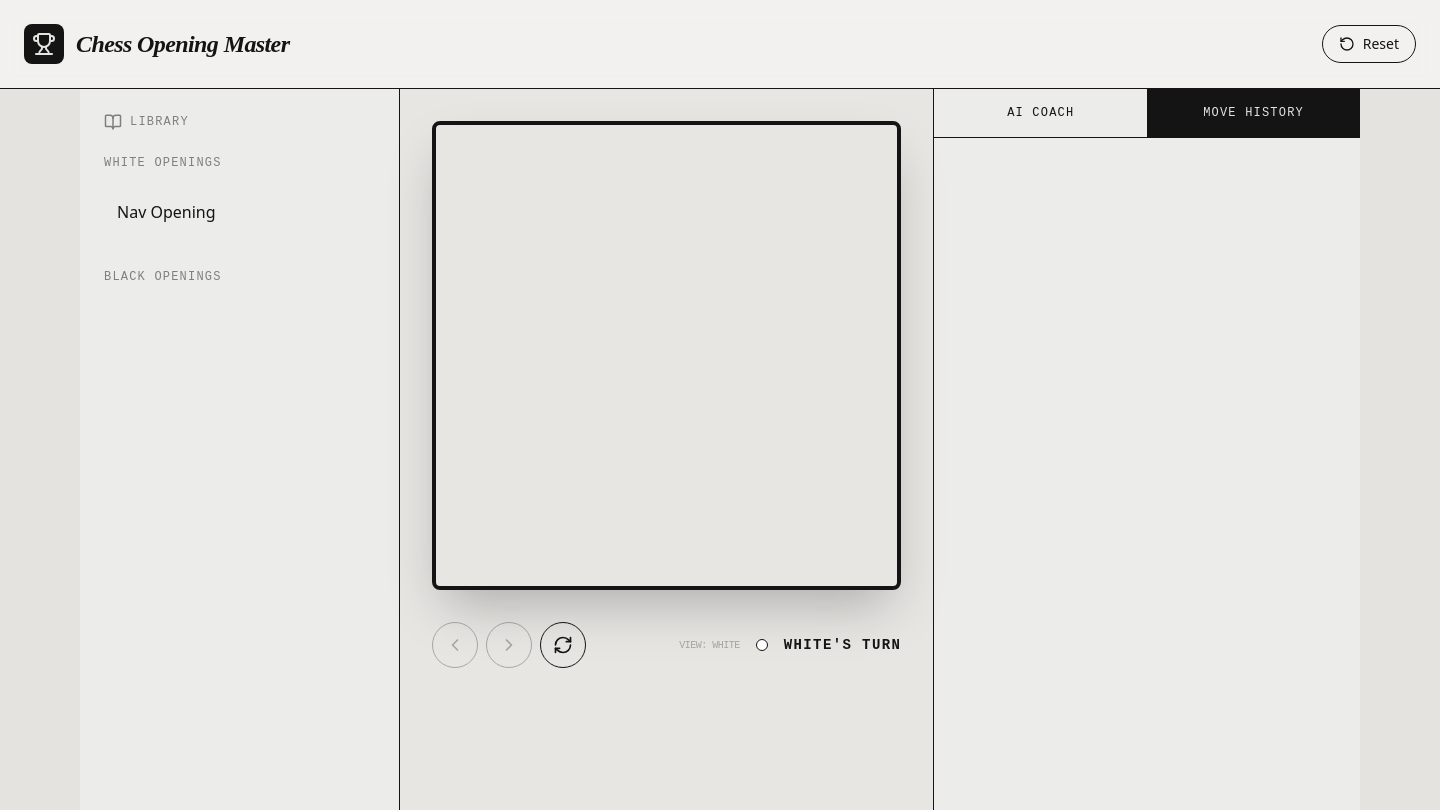
Scenario: App Component › Back/Forward Navigation › forward button becomes enabled after going back
Expected: the text "Nav Opening" is shown, [117,200,216,224]
Click the button "Nav Opening". click: coordinates (166, 212)
box: [104,187,375,237]
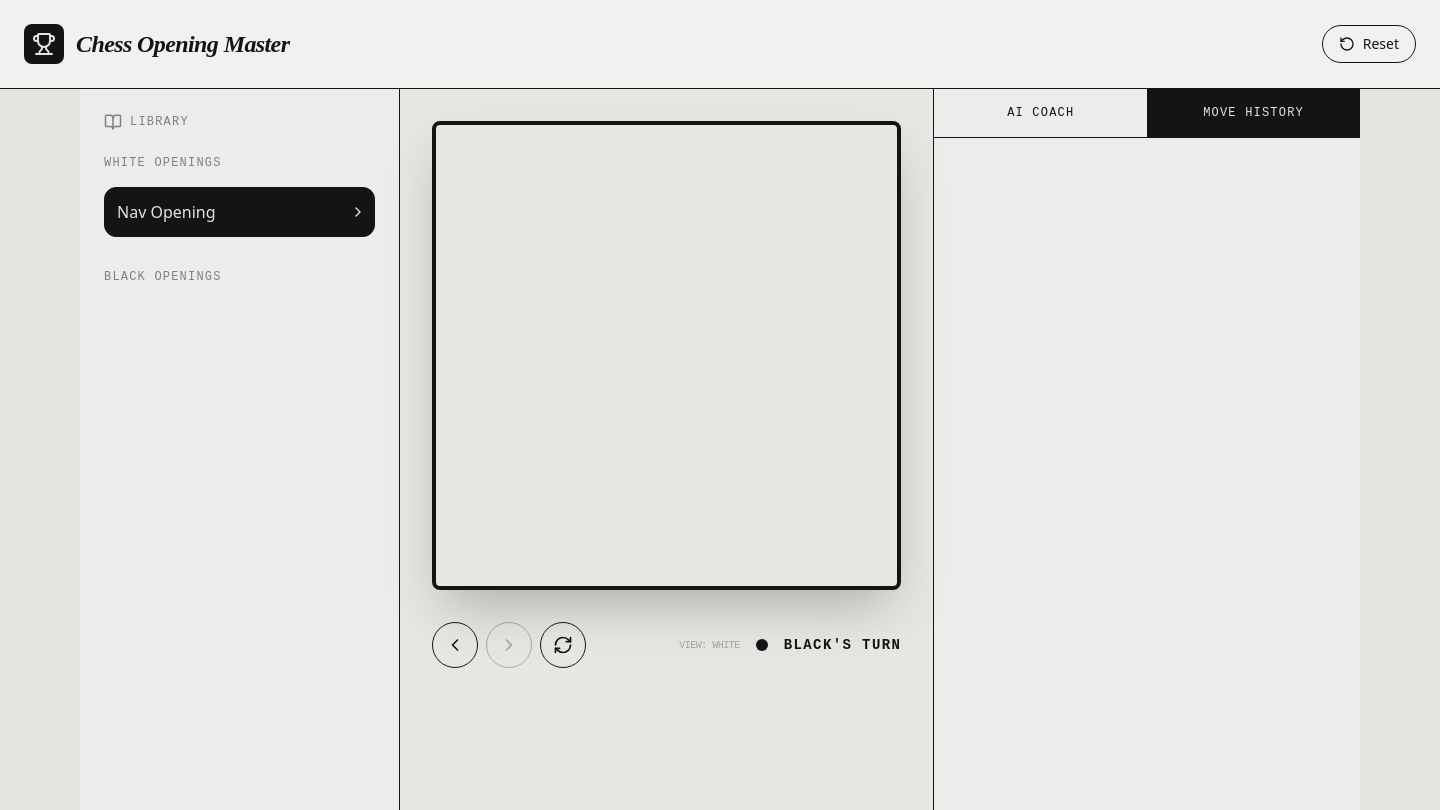
Click the button titled "Go Back". click: coordinates (455, 645)
box: [432,622,478,668]
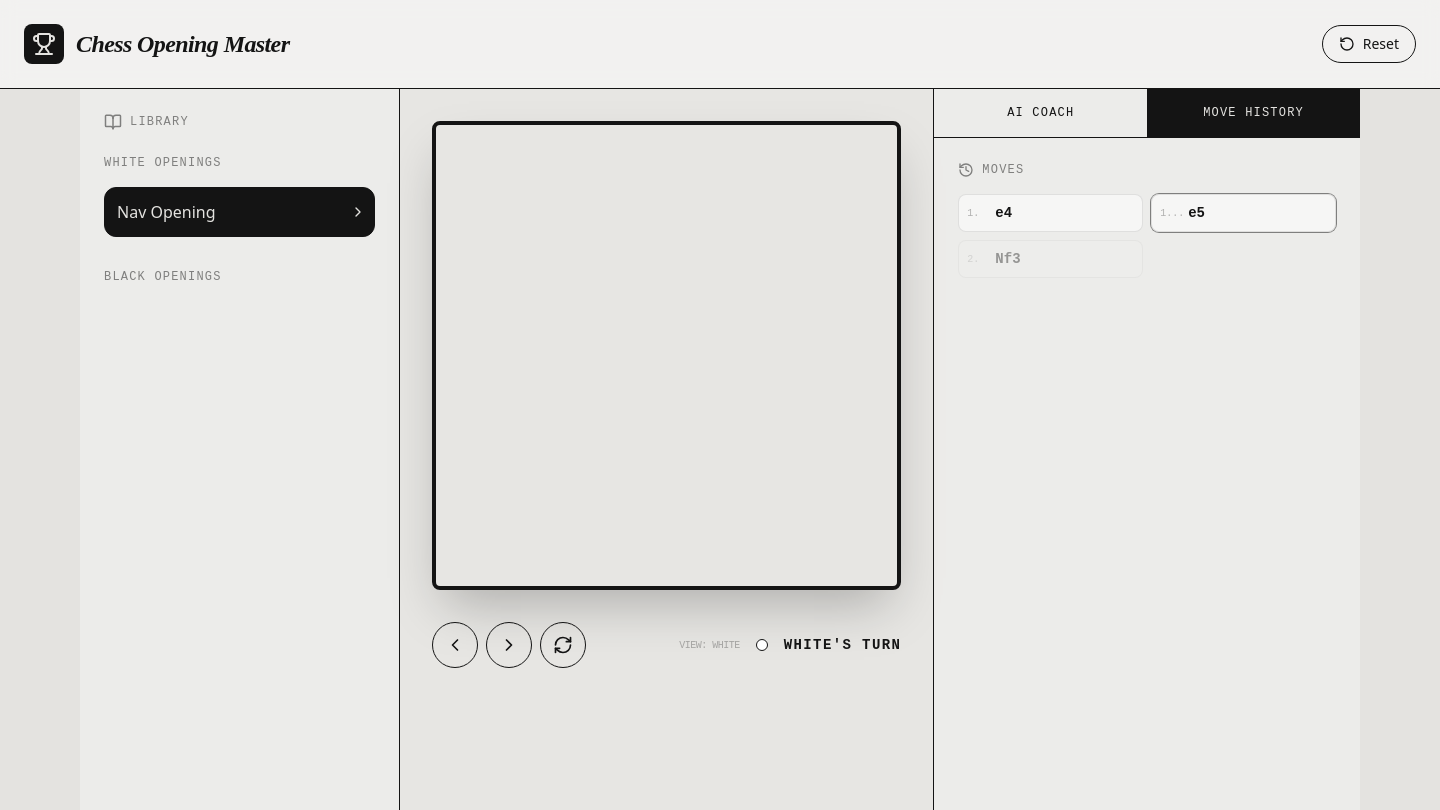
Result: the button titled "Go Forward" is enabled at [486,622,532,668]
